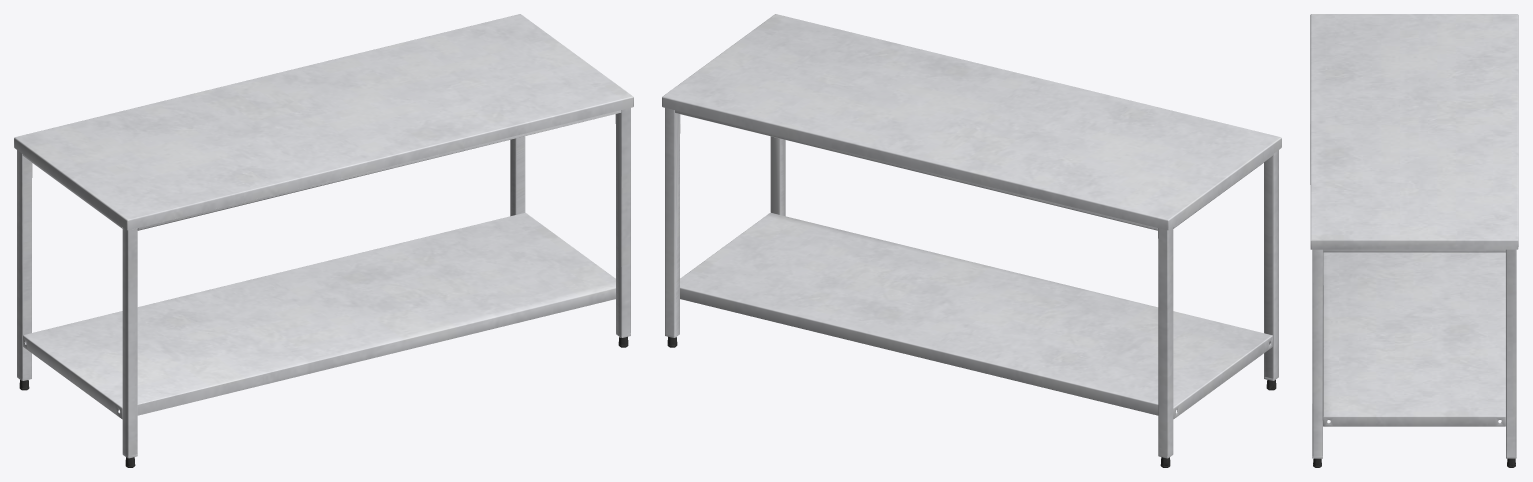
The model's file is simready-table-stainless.d63c19ef.glb.
The picture shows the model from 3 angles, left to right: view 1: azimuth 30°, elevation 25°; view 2: azimuth 150°, elevation 25°; view 3: azimuth 270°, elevation 25°; orthographic projection. The views are drawn at different scales.
Visible parts, largest first — view 1: model; view 2: model; view 3: model.
Boxes of the visible parts, box(x1,y1,x2,y2) form: model: box(14, 14, 633, 467); model: box(662, 14, 1281, 467); model: box(1310, 14, 1518, 467).
Size of the model in its own units: 1.8 by 0.85 by 0.6989.
2 materials, 2 textured.
